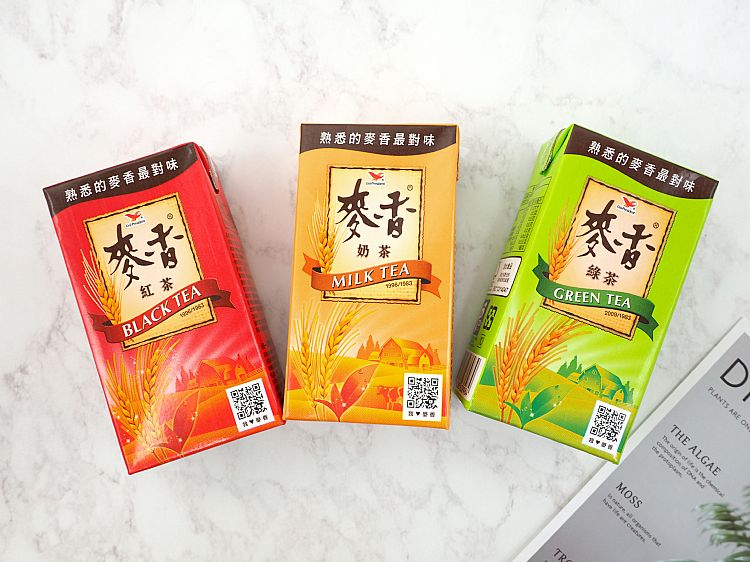鋁箔包: (449, 119, 728, 470), (28, 136, 293, 479), (280, 109, 461, 437)
